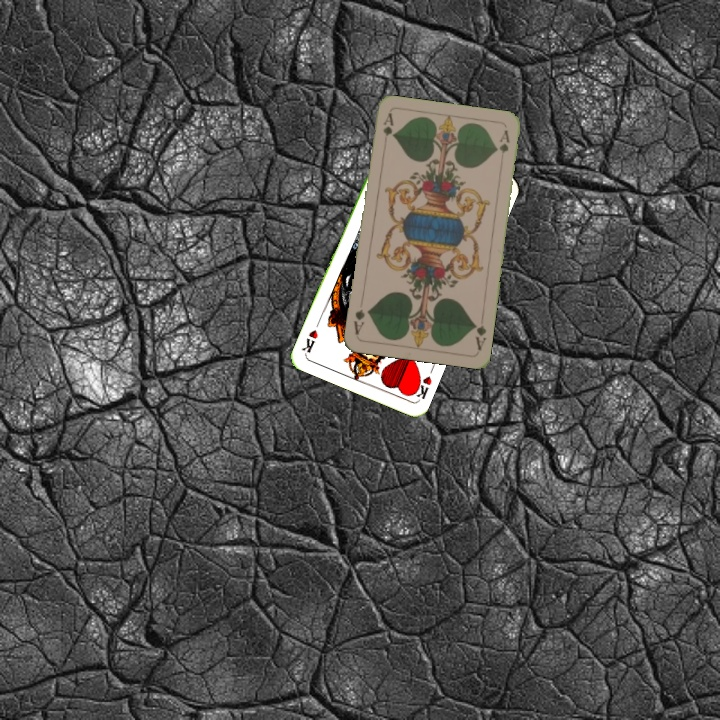GA: (470, 312, 489, 353), (379, 109, 396, 139)
HK: (408, 372, 434, 402)
